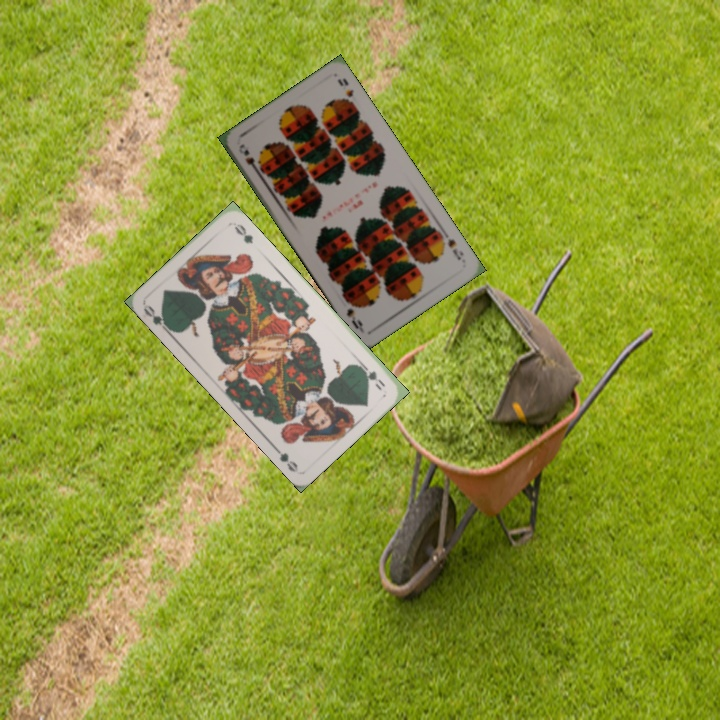GO: (139, 301, 174, 336), (355, 359, 388, 393)
S9: (234, 140, 265, 176), (440, 229, 466, 263)
